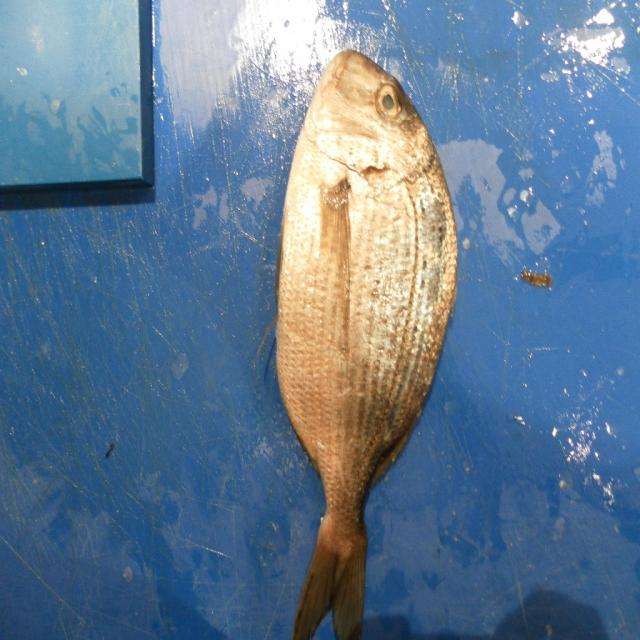Red-Sea-Bream-mercan-: (273, 50, 460, 640)
